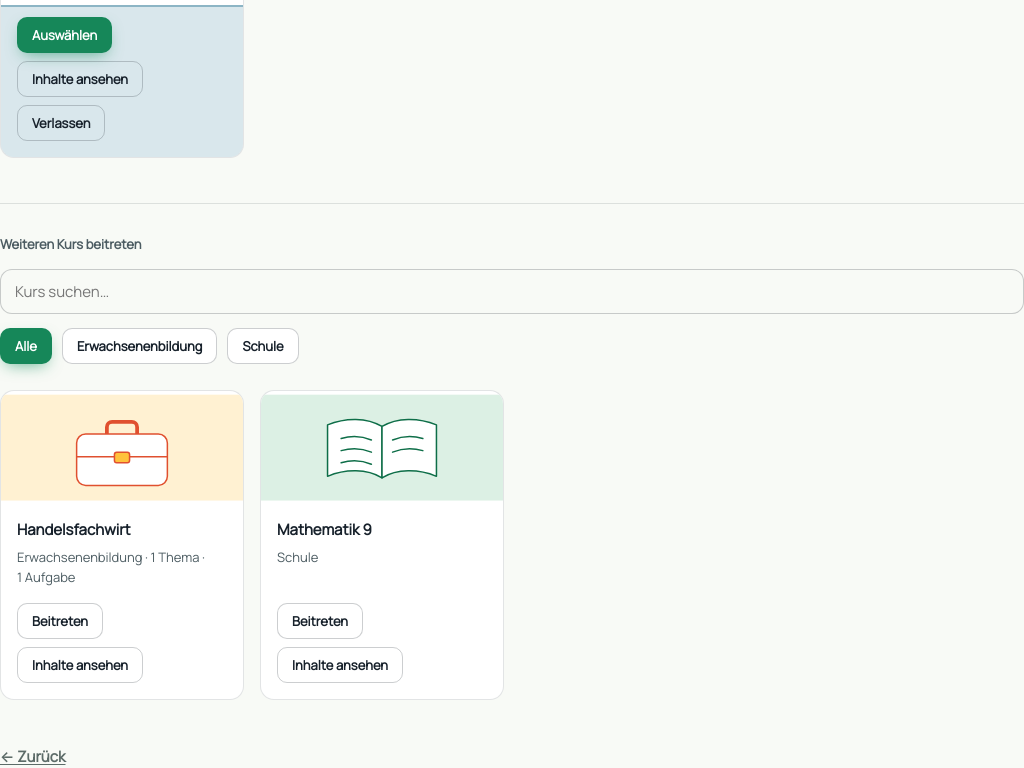
it: CourseSelection (F-100/F-101/F-102) › sagt im Wechsel-Dialog, was mit Kohorten passiert: Mitgliedschaften enden, geleitete bleiben (Review UXL-05)
(page scrolled)
Click the button "Beitreten" below "Erwachsenenbildung · 1 Thema · 1 Aufgabe" at {"x": 60, "y": 621}, box 17,603 -> 103,639
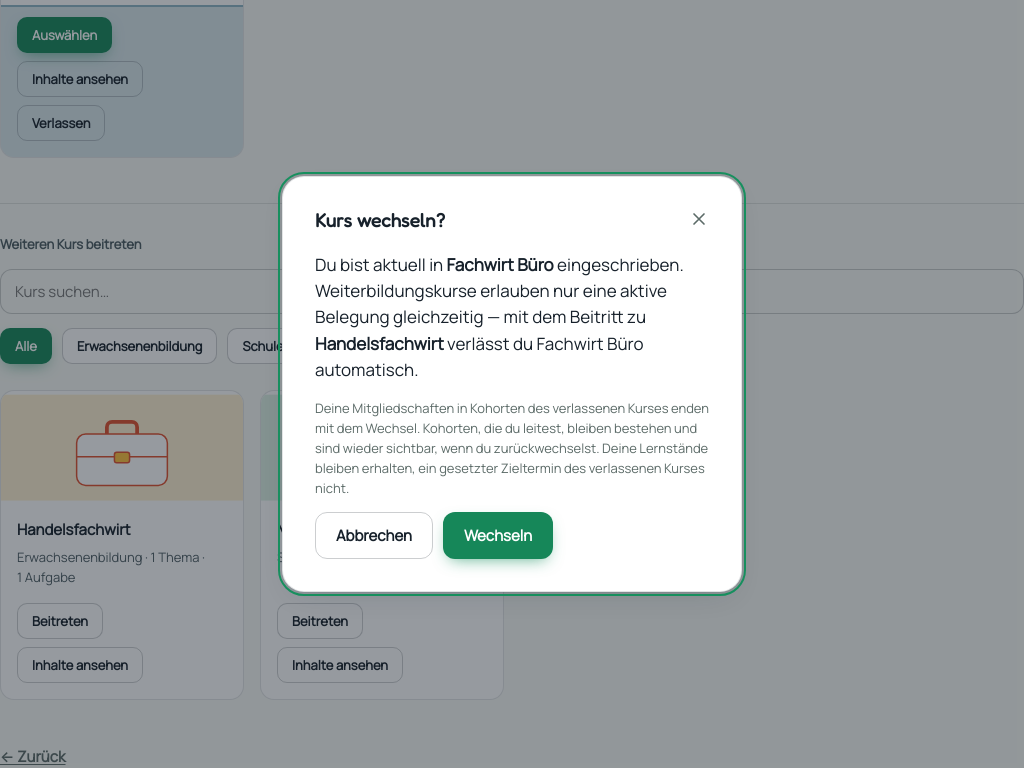
Expected: the text "Mitgliedschaften in Kohorten des verlassenen Kurses enden" is shown, 315,398 -> 709,497
Expected: the text "Kohorten, die du leitest, bleiben bestehen" is shown, 315,398 -> 709,497
